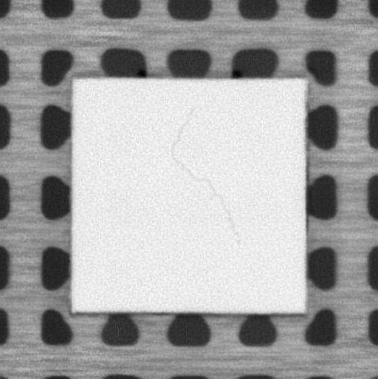DIE_CRACK: (168, 108, 240, 246)
